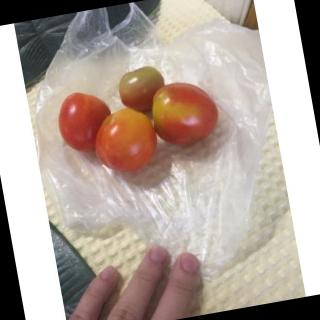Tomat: (49, 51, 240, 193)
